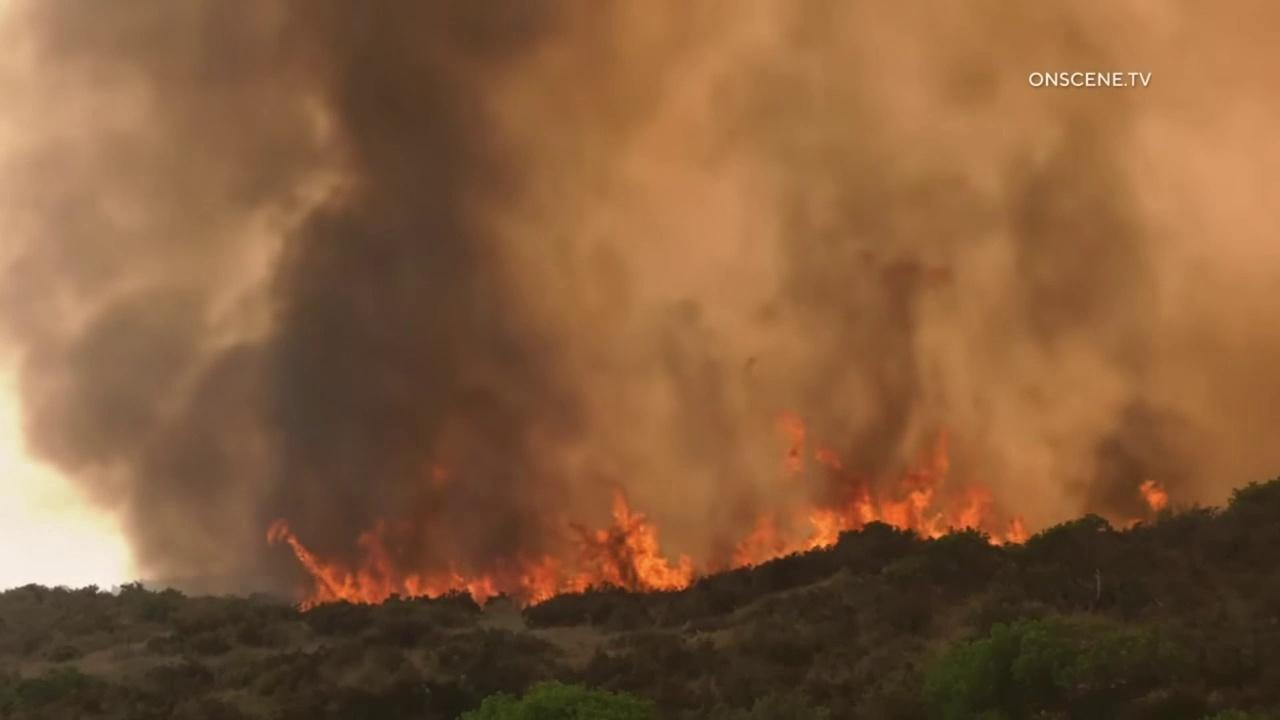fire: (267, 487, 695, 614), (729, 410, 1031, 574), (1139, 478, 1169, 511)
smoke: (0, 0, 1280, 598)
